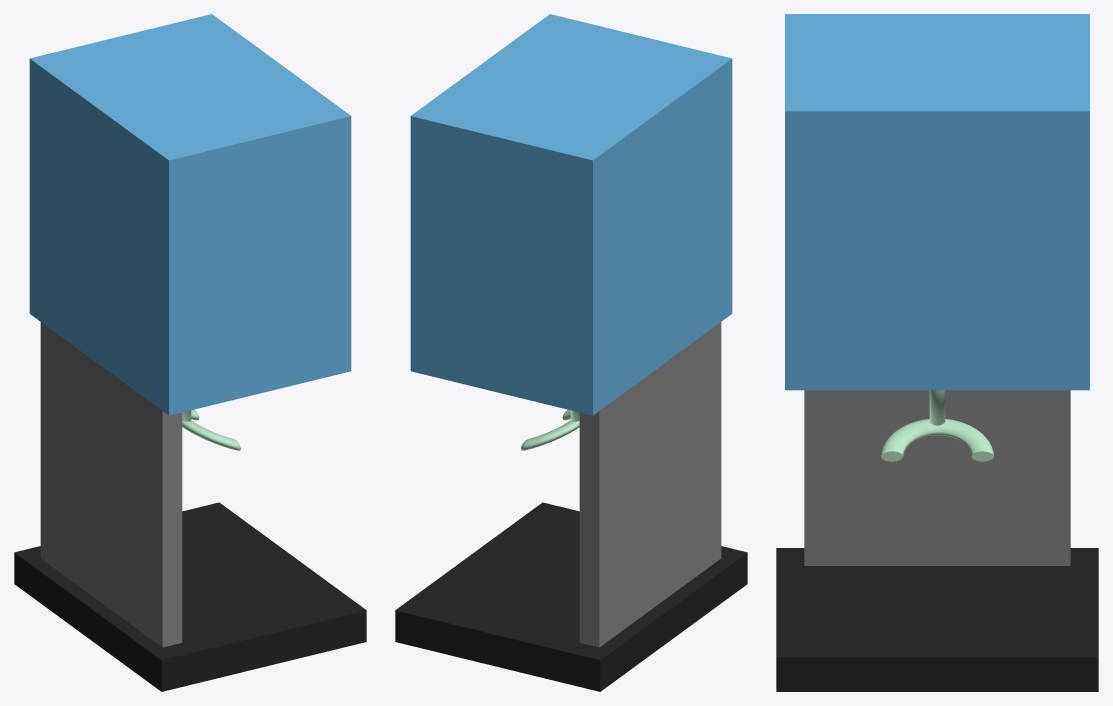
Rendered from ice_machine.glb.
3 renders of one model, left to right at view 1: azimuth 30°, elevation 25°; view 2: azimuth 150°, elevation 25°; view 3: azimuth 270°, elevation 25°, orthographic. The views are drawn at different scales.
Visible parts, largest first — view 1: Cube, Cube.001, Cube.002, Torus; view 2: Cube, Cube.001, Cube.002, Torus; view 3: Cube, Cube.001, Cube.002, Torus.
Part boxes in pixels (x1,y1,x2,y2): Cube: (29, 14, 351, 415); Cube.001: (40, 322, 182, 647); Cube.002: (14, 502, 366, 691); Torus: (182, 409, 240, 450); Cube: (410, 14, 732, 415); Cube.001: (579, 322, 721, 647); Cube.002: (395, 502, 747, 691); Torus: (521, 409, 579, 450); Cube: (785, 14, 1089, 390); Cube.001: (804, 390, 1070, 565); Cube.002: (776, 548, 1098, 691); Torus: (881, 390, 993, 461).
Bounding box in the file's own units: 1.32 × 3.24 × 1.65.
